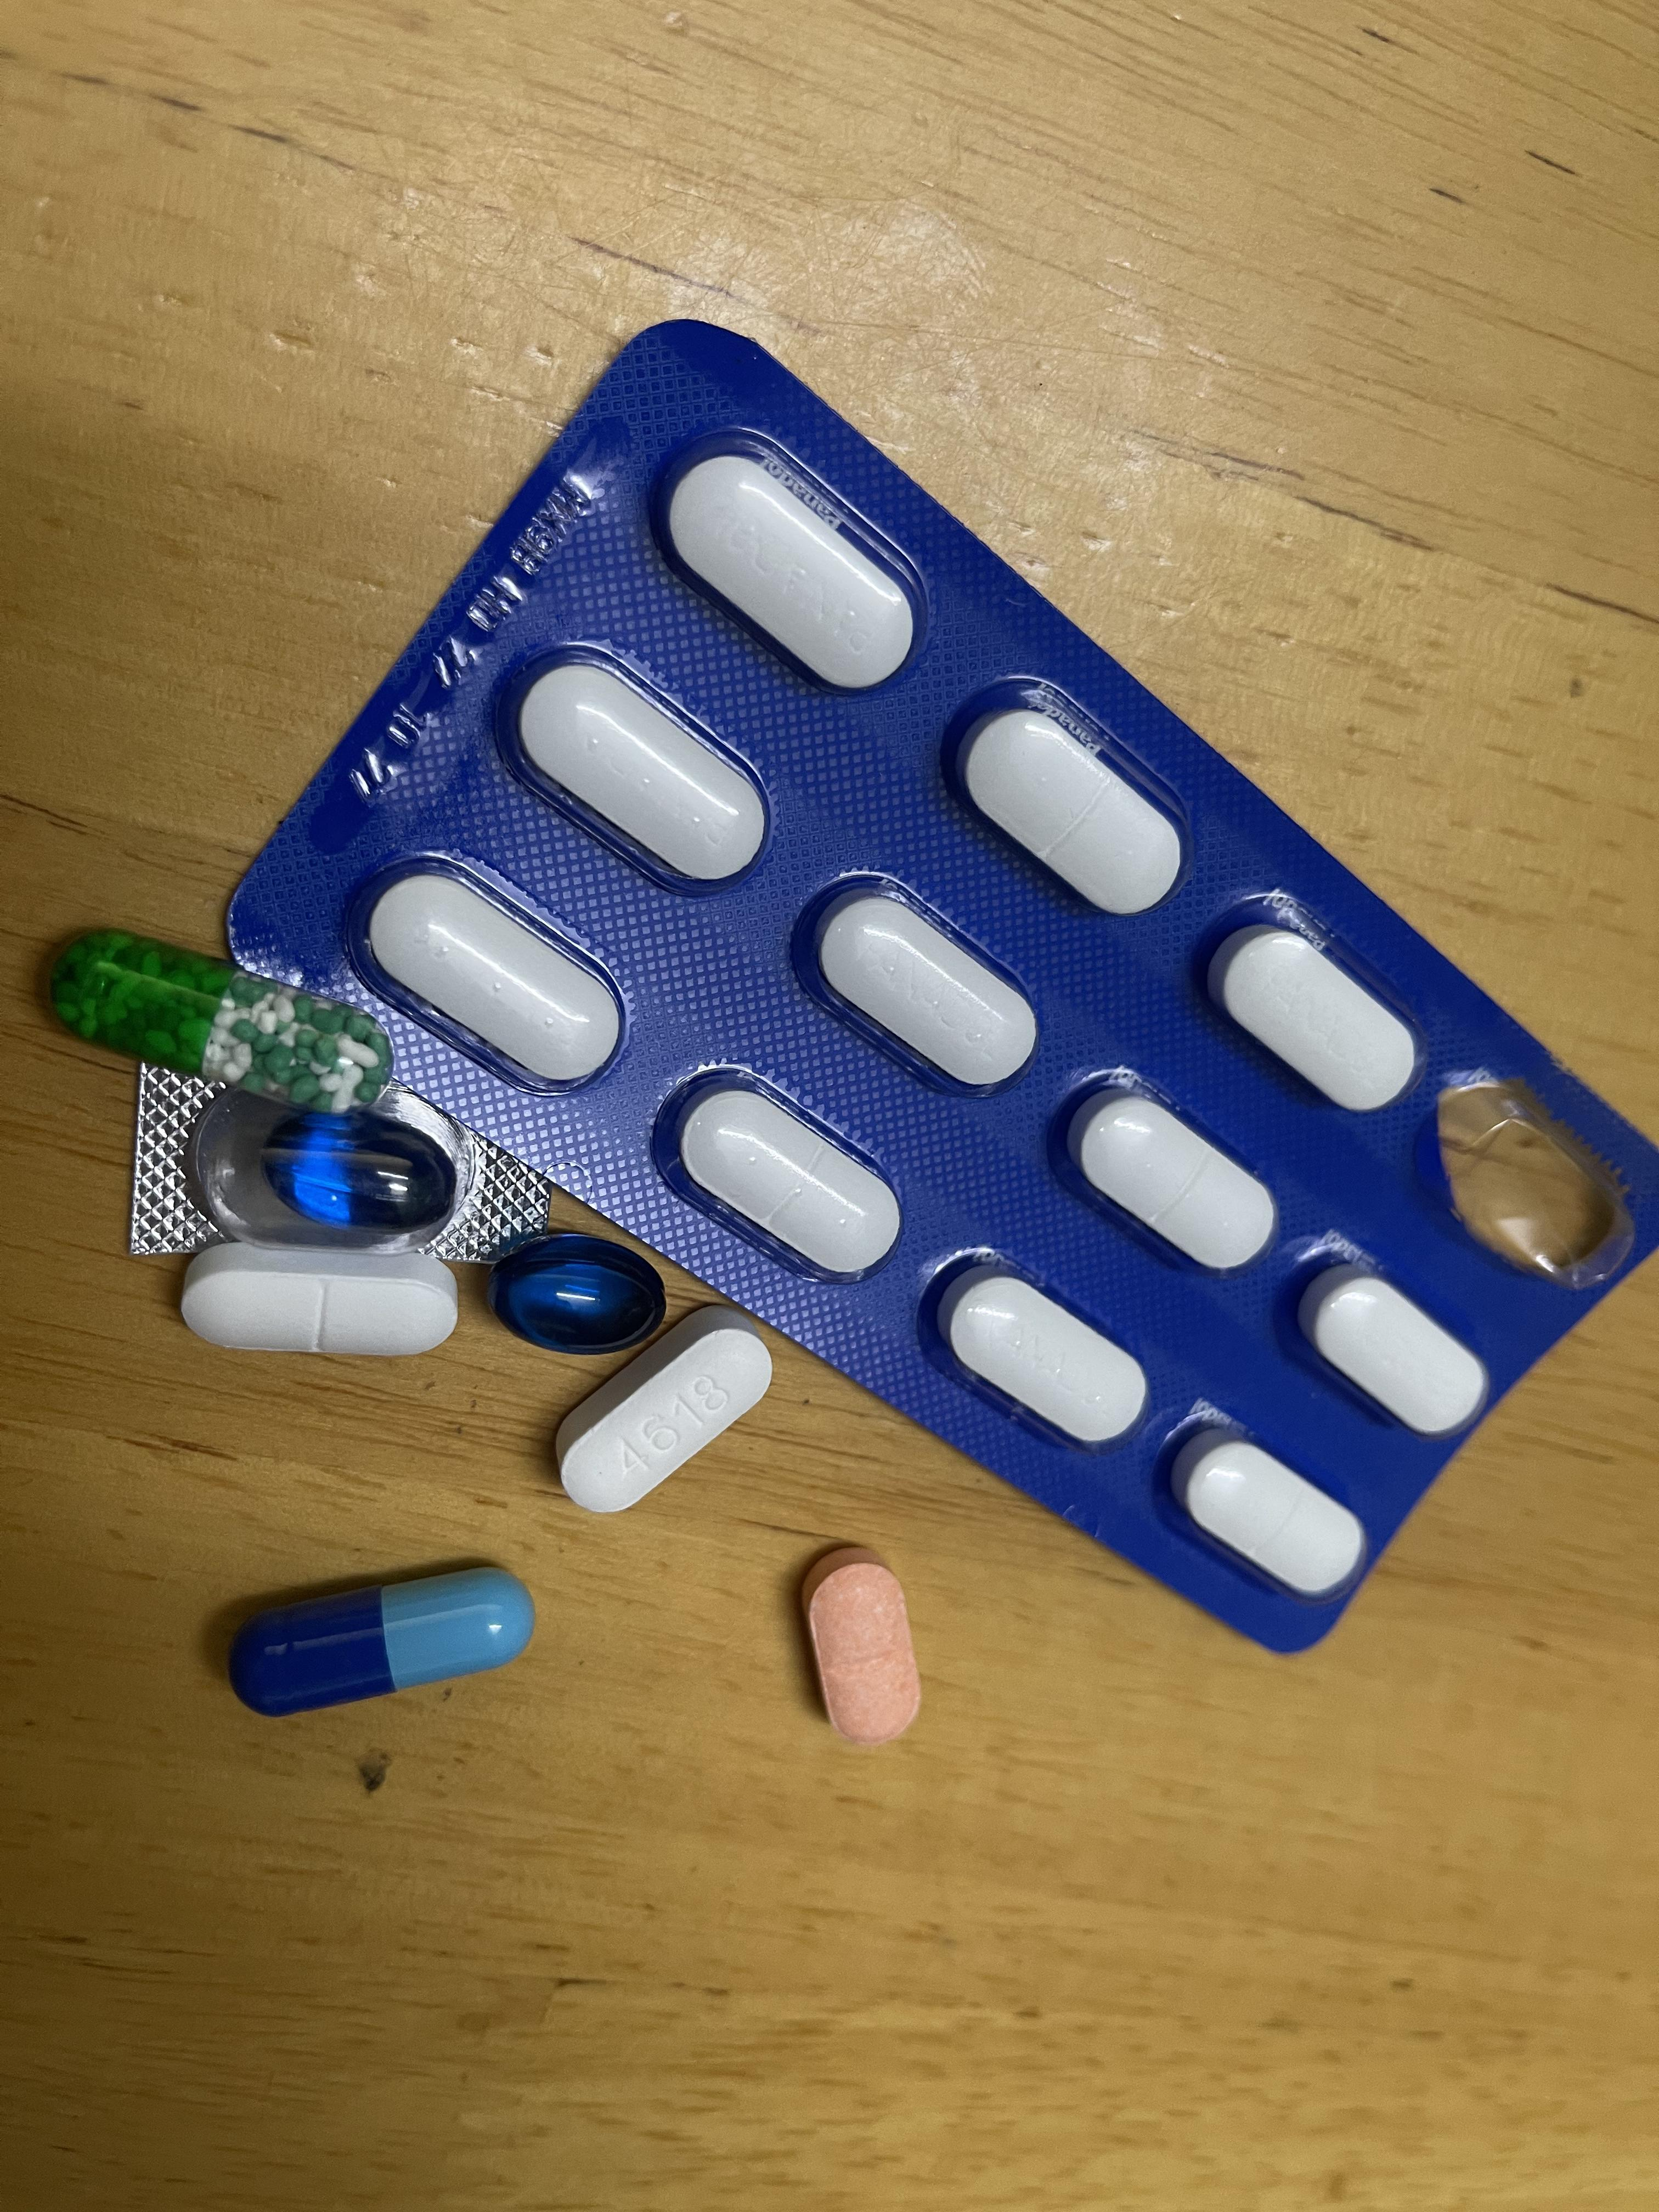Lincomyxin_500mg: (256, 1109, 455, 1233), (488, 1247, 655, 1350)
Loratadine_10mg: (803, 1552, 922, 1747)
Paracetamol_350mg: (655, 428, 934, 698), (507, 648, 777, 895), (349, 857, 626, 1097), (667, 1083, 906, 1282), (814, 883, 1035, 1096), (972, 711, 1185, 913), (1066, 1085, 1276, 1275), (932, 1266, 1147, 1451), (1213, 927, 1420, 1109), (1297, 1266, 1492, 1444), (1173, 1428, 1366, 1602), (178, 1259, 458, 1360)
Paracetamol_500mg: (558, 1325, 769, 1512)
Paracetamol_650mg: (52, 934, 387, 1108)
pill: (235, 1571, 530, 1707)
